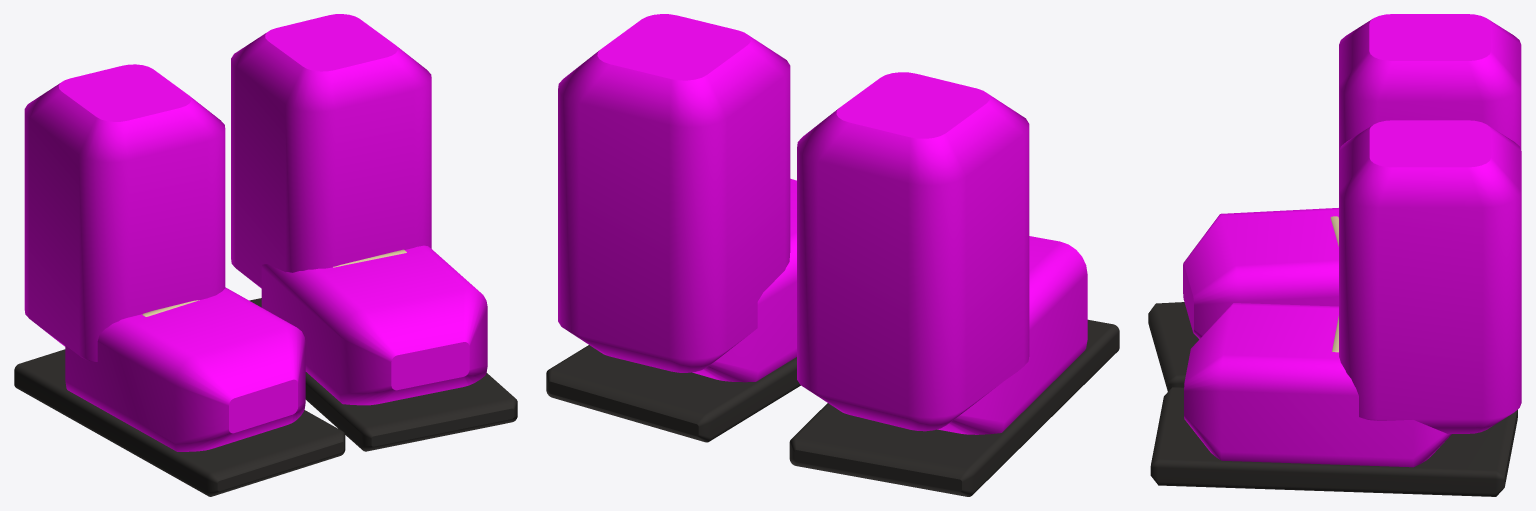
The model's file is objet_bottes.glb.
3 views of the same model, side by side, from view 1: azimuth 30°, elevation 25°; view 2: azimuth 150°, elevation 25°; view 3: azimuth 270°, elevation 25° (orthographic). The views are drawn at different scales.
Parts seen in each view (by area): view 1: bottes_teinte.008, bottes_semelle.008; view 2: bottes_teinte.008, bottes_semelle.008; view 3: bottes_teinte.008, bottes_semelle.008.
Part boxes in pixels (x1,y1,x2,y2): bottes_teinte.008: (24,14,487,451); bottes_semelle.008: (14,298,517,496); bottes_teinte.008: (558,14,1087,434); bottes_semelle.008: (546,319,1119,496); bottes_teinte.008: (1183,14,1521,467); bottes_semelle.008: (1148,302,1517,496).
Bounding box in the file's own units: 0.2207 × 0.171 × 0.184.
